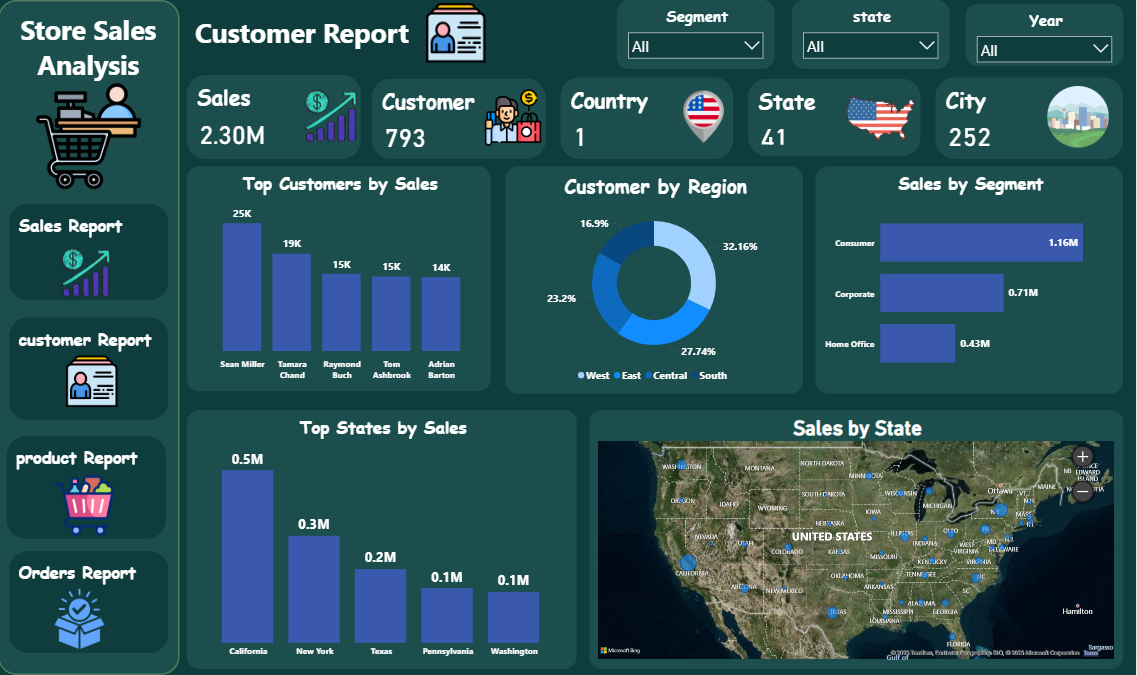

What the dashboard file says about the page in this screenshot:
{"tool":"powerbi","page":{"name":"Customer","canvas":[1820,1080],"ordinal":2},"visuals":[{"type":"cardVisual","title":"Sales","fields":{"Data":["Sum(sales.Sales)"]},"box":[302,120,278,134],"z":0},{"type":"cardVisual","title":"Customer","fields":{"Data":["Count(customer.Customer ID)"]},"box":[598,126,278,128],"z":1000},{"type":"cardVisual","title":"City","fields":{"Data":["Count(customer.City)"]},"box":[1500,124,300,130],"z":2000},{"type":"cardVisual","title":"State","fields":{"Data":["Count(customer.State)"]},"box":[1200,126,276,124],"z":3000},{"type":"columnChart","title":"Top Customers by Sales","fields":{"Category":["customer.Customer Name"],"Y":["Sum(sales.Sales)"]},"box":[302,266,486,360],"z":4000},{"type":"donutChart","title":" Customer by Region","fields":{"Category":["customer.Region"],"Y":["CountNonNull(customer.Customer ID)"]},"box":[812,266,476,364],"z":5000},{"type":"map","title":"Sales by State","fields":{"Category":["customer.State"],"Size":["Sum(sales.Sales)"]},"box":[946,656,854,414],"z":6000},{"type":"barChart","title":" Sales by Segment","fields":{"Category":["customer.Segment"],"Y":["Sum(sales.Sales)"]},"box":[1308,266,492,364],"z":7000},{"type":"columnChart","title":"Top States by Sales","fields":{"Category":["customer.State"],"Y":["Sum(sales.Sales)"]},"box":[302,656,624,414],"z":8000},{"type":"textbox","box":[0,0,290,1080],"z":9000},{"type":"textbox","box":[310,0,1490,124],"z":10000},{"type":"image","box":[675,0,112.5,105],"z":11000},{"type":"image","box":[486,120,94,130],"z":12000},{"type":"cardVisual","title":"Country","fields":{"Data":["Count(customer.Country)"]},"box":[900,124,276,130],"z":13000},{"type":"image","box":[774,126,100,124],"z":14000},{"type":"image","box":[1082,124,94,126],"z":15000},{"type":"image","box":[1352,128,122,122],"z":16000},{"type":"image","box":[1674,124,108,126],"z":17000},{"type":"image","box":[0,126,290,184],"z":18000},{"type":"slicer","title":"Year","fields":{"Values":["date.Year","date.Quarter"]},"box":[1547.5,5,252.5,100],"z":19000},{"type":"textbox","box":[18,326,254,154],"z":19000,"group":"g4"},{"type":"slicer","title":"state","fields":{"Values":["customer.State"]},"box":[1270,0,252.5,110],"z":20000},{"type":"textbox","box":[18,508,254,164],"z":20000,"group":"g3"},{"type":"slicer","title":"Segment","fields":{"Values":["customer.Segment"]},"box":[990,0,252.5,110],"z":21000},{"type":"textbox","box":[14,698,254,164],"z":21000,"group":"g2"},{"type":"group","id":"g1","title":"Group 1","box":[18,882,254,162],"z":22000},{"type":"textbox","box":[18,882,254,162],"z":22000,"group":"g1"},{"type":"group","id":"g2","title":"Group 2","box":[14,698,254,164],"z":23000},{"type":"group","id":"g3","title":"Group 3","box":[18,508,254,164],"z":24000},{"type":"group","id":"g4","title":"Group 4","box":[0,326,282,154],"z":25000},{"type":"image","box":[0,392,282,88],"z":26000,"group":"g4"},{"type":"image","box":[32,564,236,92],"z":27000,"group":"g3"},{"type":"image","box":[18,936,224,108],"z":27001,"group":"g1"},{"type":"image","box":[32,756,210,106],"z":27003,"group":"g2"}]}

Visuals, with their boxes in screenshot pixels (x1, y1, x2, y2), scaled from the page's 1820x1080 canvas onto the 1137x675 screenshot:
"Sales" cardVisual: left=189, top=75, right=362, bottom=159
"Customer" cardVisual: left=374, top=79, right=547, bottom=159
"City" cardVisual: left=937, top=78, right=1125, bottom=159
"State" cardVisual: left=750, top=79, right=922, bottom=156
"Top Customers by Sales" columnChart: left=189, top=166, right=492, bottom=391
" Customer by Region" donutChart: left=507, top=166, right=805, bottom=394
"Sales by State" map: left=591, top=410, right=1125, bottom=669
" Sales by Segment" barChart: left=817, top=166, right=1125, bottom=394
"Top States by Sales" columnChart: left=189, top=410, right=578, bottom=669
textbox: left=0, top=0, right=181, bottom=674
textbox: left=194, top=0, right=1125, bottom=78
image: left=422, top=0, right=492, bottom=66
image: left=304, top=75, right=362, bottom=156
"Country" cardVisual: left=562, top=78, right=735, bottom=159
image: left=484, top=79, right=546, bottom=156
image: left=676, top=78, right=735, bottom=156
image: left=845, top=80, right=921, bottom=156
image: left=1046, top=78, right=1113, bottom=156
image: left=0, top=79, right=181, bottom=194
"Year" slicer: left=967, top=3, right=1125, bottom=66
textbox: left=11, top=204, right=170, bottom=300
"state" slicer: left=793, top=0, right=951, bottom=69
textbox: left=11, top=318, right=170, bottom=420
"Segment" slicer: left=618, top=0, right=776, bottom=69
textbox: left=9, top=436, right=167, bottom=539
"Group 1" group: left=11, top=551, right=170, bottom=652
textbox: left=11, top=551, right=170, bottom=652
"Group 2" group: left=9, top=436, right=167, bottom=539
"Group 3" group: left=11, top=318, right=170, bottom=420
"Group 4" group: left=0, top=204, right=176, bottom=300
image: left=0, top=245, right=176, bottom=300
image: left=20, top=352, right=167, bottom=410
image: left=11, top=585, right=151, bottom=652
image: left=20, top=472, right=151, bottom=539
